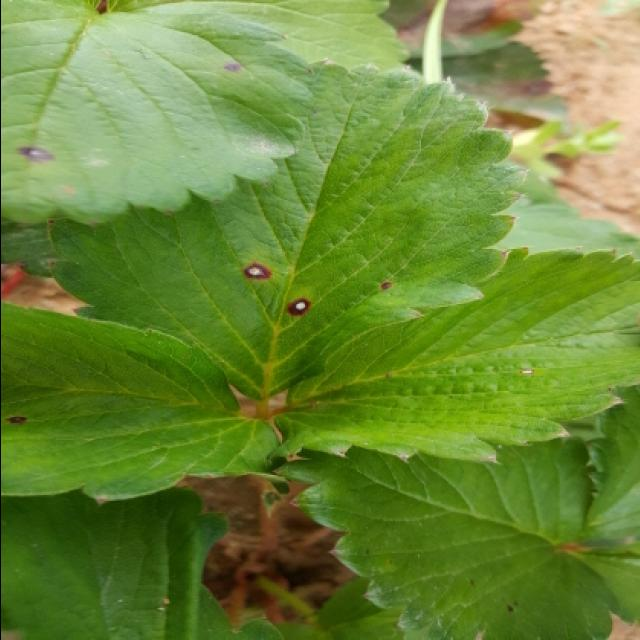Leaf Spot: (38, 62, 528, 402), (269, 245, 640, 465), (271, 435, 618, 640), (2, 2, 313, 228), (2, 304, 286, 504)
